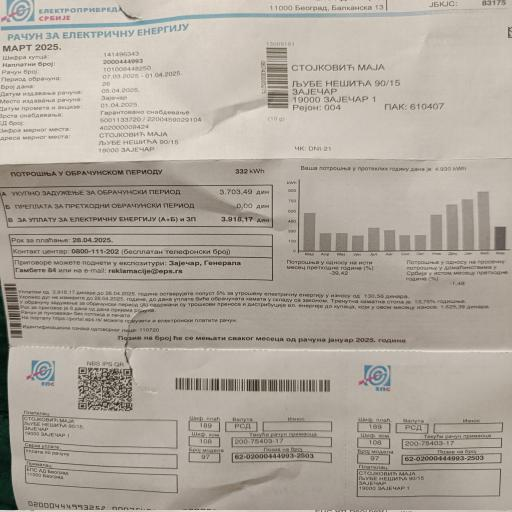racun_za_struju: (0, 161, 277, 246)
